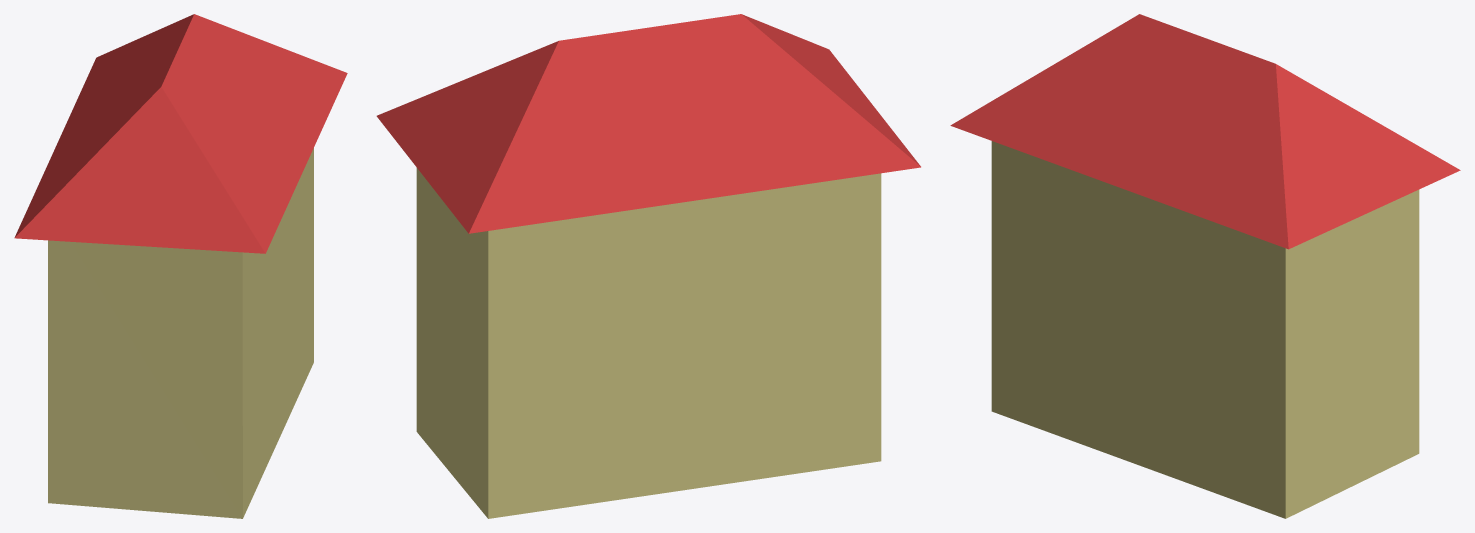
3 views of the same model, side by side, from view 1: azimuth 30°, elevation 25°; view 2: azimuth 150°, elevation 25°; view 3: azimuth 270°, elevation 25° (orthographic). The views are drawn at different scales.
Size of the model in its own units: 8.33 by 8.65 by 7.33.
